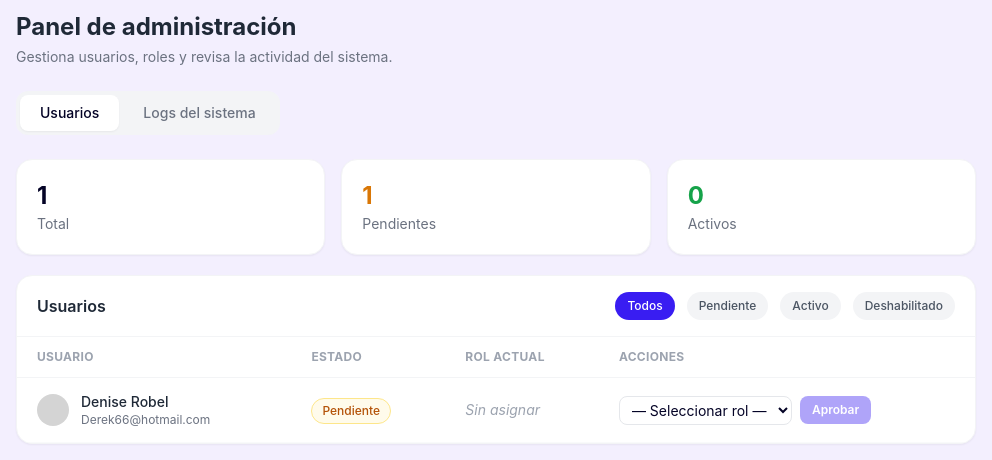
Test: UsersTab › shows "Guardando..." while approving
Select "Administrador" in the dropdown showing "— Seleccionar rol —" at coordinates (705, 410), box [619,396,792,424]
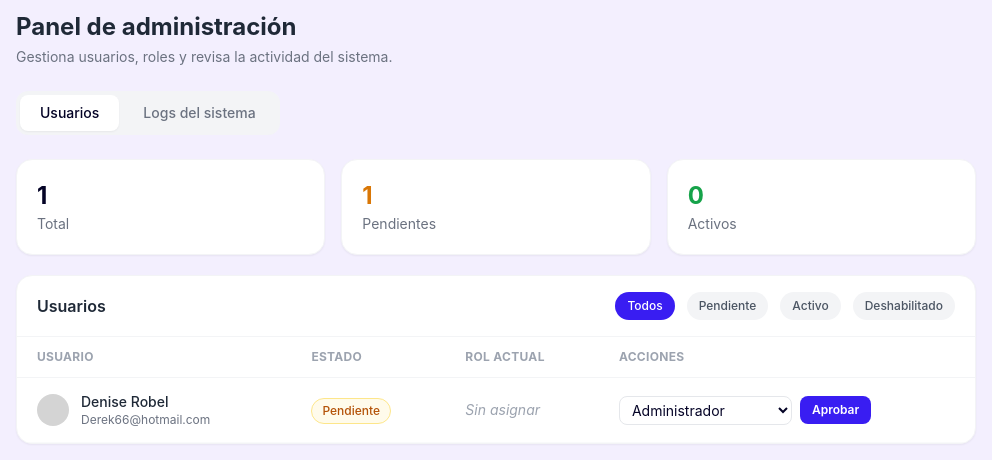
Click the button "Aprobar" at coordinates (836, 410), box [800,396,871,424]
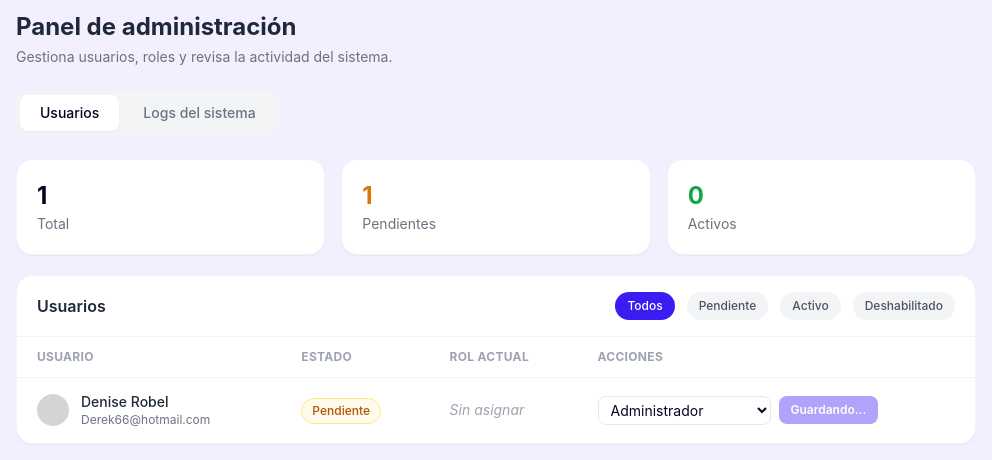
Expected: the button "Guardando..." is shown, [778,396,878,424]
